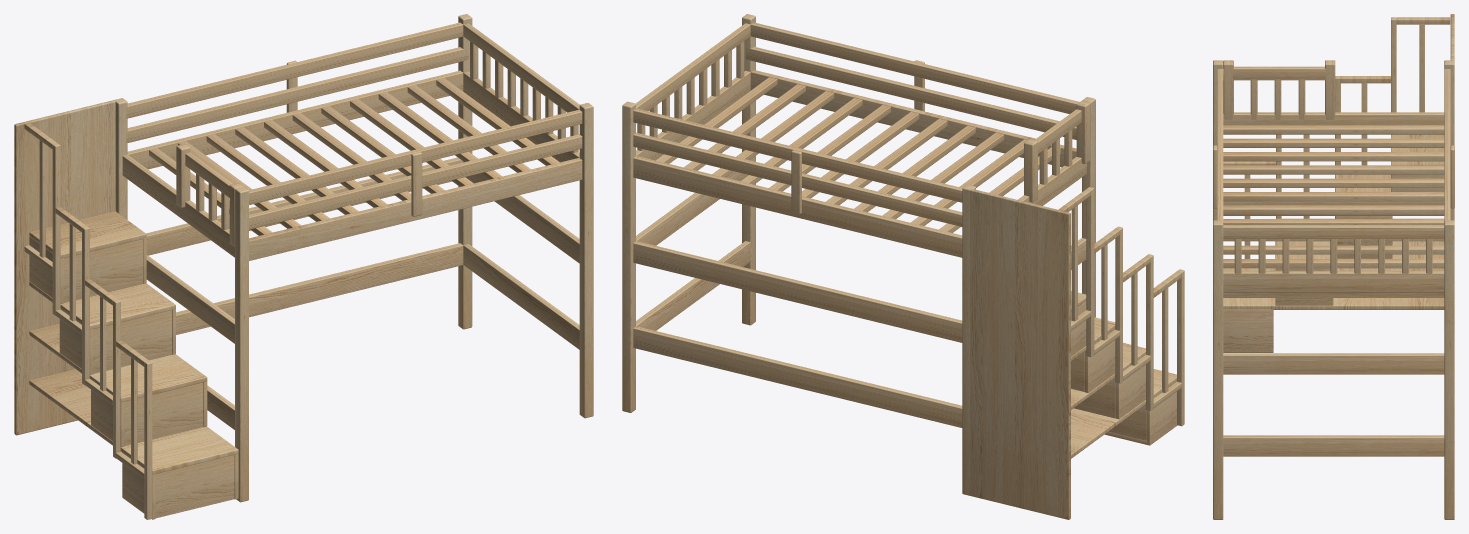
File: bunkbed.fbx
3 renders of one model, left to right at view 1: azimuth 30°, elevation 25°; view 2: azimuth 150°, elevation 25°; view 3: azimuth 270°, elevation 25°, orthographic. The views are drawn at different scales.
Visible parts, largest first — view 1: Cube.011, Cube.013, Cube.009, Cube.012, Cube.004, Cube.023, Cube.005, Cube.002, Cube.003, Cube.032, Cube.021, Cube.031 (+23 smaller); view 2: Cube.013, Cube.011, Cube.009, Cube.012, Cube.005, Cube.004, Cube, Cube.001, Cube.008, Cube.002, Cube.023, Cube.007 (+20 smaller); view 3: Cube.012, Cube.009, Cube.011, Cube.007, Cube, Cube.002, Cube.006, Cube.023, Cube.008, Cube.024, Cube.021, Cube.017 (+17 smaller).
Part boxes in pixels (<box>): Cube.011: <box>126,22,582,229</box>; Cube.013: <box>14,100,115,435</box>; Cube.009: <box>146,157,579,429</box>; Cube.012: <box>149,78,559,235</box>; Cube.004: <box>249,157,582,260</box>; Cube.023: <box>29,369,238,474</box>; Cube.005: <box>127,70,463,169</box>; Cube.002: <box>579,103,593,418</box>; Cube.003: <box>235,187,248,502</box>; Cube.032: <box>155,455,234,518</box>; Cube.021: <box>29,324,207,402</box>; Cube.031: <box>124,382,203,445</box>; Cube.013: <box>964,189,1070,519</box>; Cube.011: <box>633,22,1081,226</box>; Cube.009: <box>633,159,1086,427</box>; Cube.012: <box>655,77,1060,232</box>; Cube.005: <box>633,156,962,257</box>; Cube.004: <box>750,70,1076,167</box>; Cube: <box>622,101,635,412</box>; Cube.001: <box>962,184,975,495</box>; Cube.008: <box>637,41,744,150</box>; Cube.002: <box>742,14,755,325</box>; Cube.023: <box>1071,369,1176,458</box>; Cube.007: <box>636,70,750,160</box>; Cube.012: <box>1223,125,1444,268</box>; Cube.009: <box>1223,201,1444,456</box>; Cube.011: <box>1217,66,1450,238</box>; Cube.007: <box>1223,271,1444,292</box>; Cube: <box>1444,220,1454,519</box>; Cube.002: <box>1213,220,1223,519</box>; Cube.006: <box>1223,112,1444,125</box>; Cube.023: <box>1223,268,1444,309</box>; Cube.008: <box>1234,239,1432,273</box>; Cube.024: <box>1223,309,1273,352</box>; Cube.021: <box>1275,218,1444,258</box>; Cube.017: <box>1250,79,1305,119</box>.
Bounding box in the file's own units: 849 × 556 × 412.
